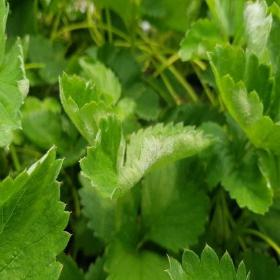Powdery Mildew Leaf: (0, 144, 73, 279), (110, 121, 219, 203), (206, 42, 279, 156), (59, 70, 118, 146), (78, 113, 126, 198), (242, 0, 273, 56)
